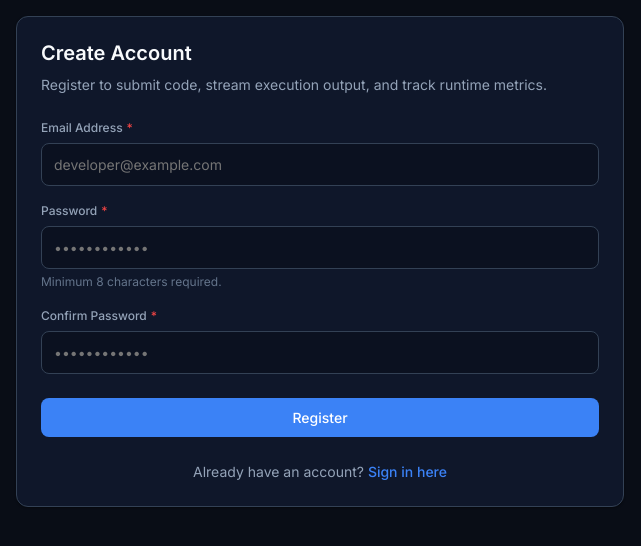
Test case: RegisterPage › 7. detects and reports password mismatch
Type "user@example.com" into the field labelled "Email Address*" at (320, 164), box [41,143,599,186]
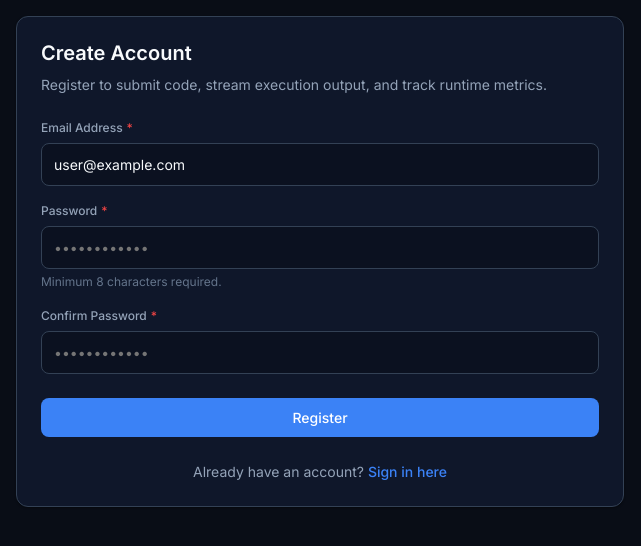
Type "password123" into the password field labelled "Password*" at (320, 248), box [41,226,599,269]
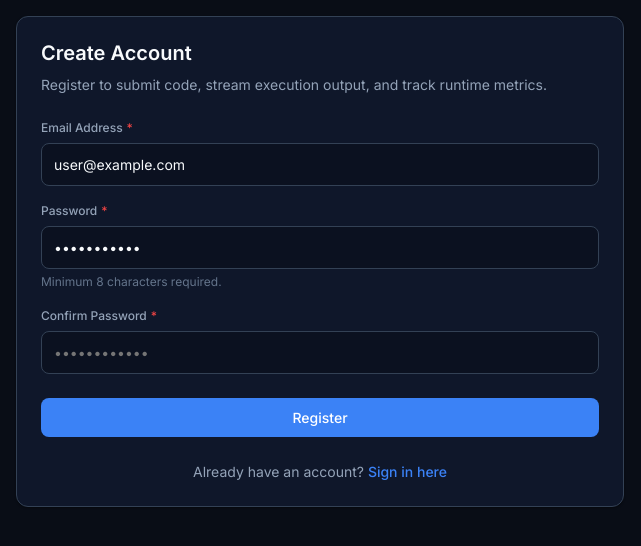
Type "different123" into the password field labelled "Confirm Password*" at (320, 352), box [41,331,599,374]
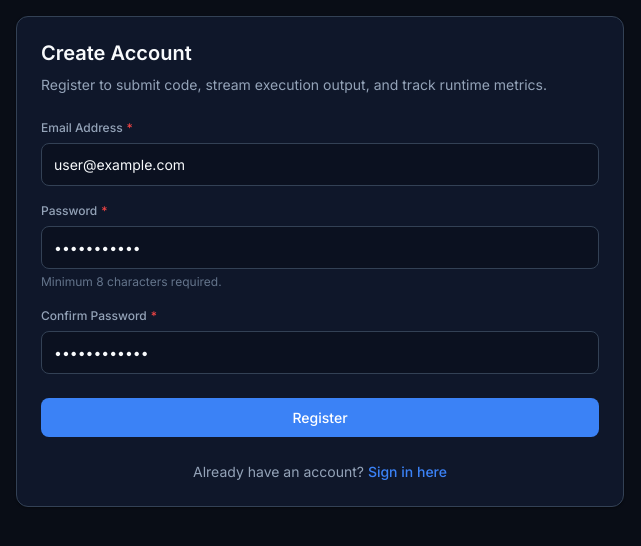
Click the button "Register" at (320, 418), box [41,398,599,437]
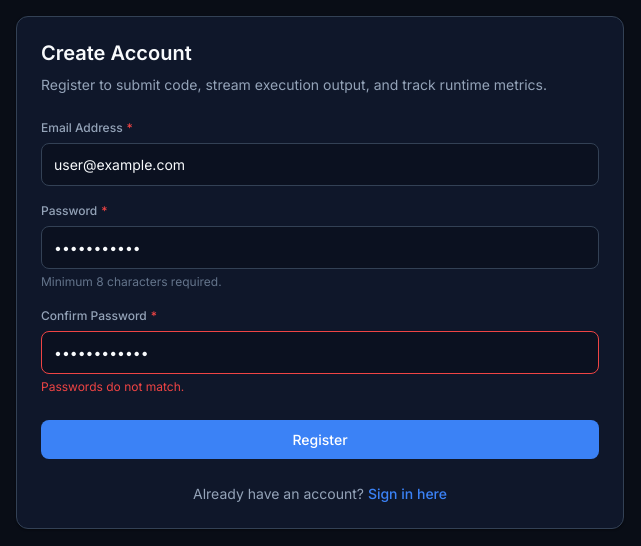
Check: the text "Passwords do not match." is shown, box [41,379,184,394]
